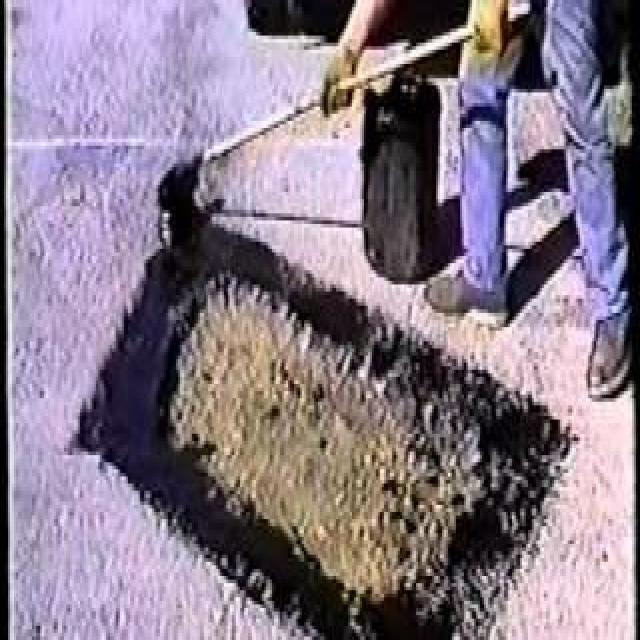Pothole: (66, 178, 586, 640)
